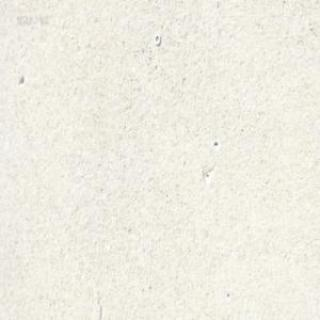Washertrack_idkeyframe: (153, 34, 160, 45)
